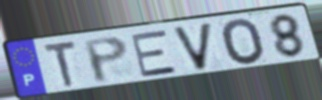8: (268, 12, 308, 60)
E: (128, 28, 180, 79)
O: (219, 17, 268, 68)
P: (81, 34, 131, 85)
T: (41, 39, 79, 91)
V: (170, 20, 215, 73)
